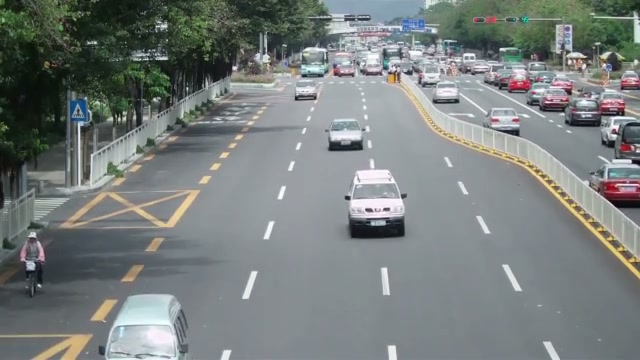bus: (301, 47, 331, 77)
car: (102, 293, 190, 358), (344, 169, 407, 237), (588, 159, 640, 207), (600, 115, 639, 147), (327, 118, 364, 151), (613, 121, 640, 165), (483, 107, 521, 135), (564, 98, 601, 126), (539, 89, 570, 112), (431, 82, 460, 104), (599, 94, 626, 116), (526, 84, 552, 105), (294, 80, 318, 100), (507, 74, 532, 93), (620, 71, 640, 90)
pedestrian: (20, 233, 46, 288)
truck: (301, 47, 330, 77), (332, 54, 355, 77), (362, 54, 383, 76)
